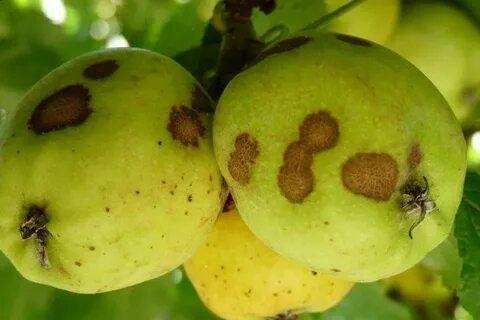Apple: (211, 35, 467, 283), (1, 45, 230, 293)
